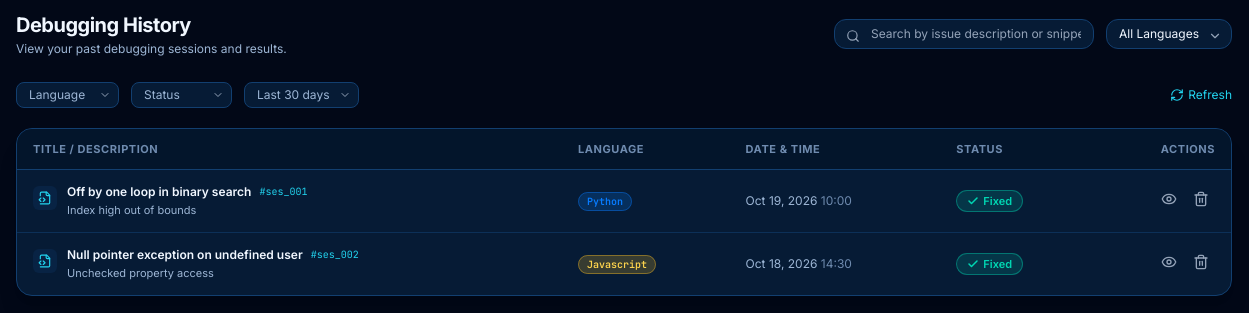
Test case: HistoryPage Component › filters sessions by search term
The image size is (1249, 313).
Expected: the text "Off by one loop in binary search" is shown, [67,184,251,200]
Type "null pointer" into the field with placeholder "Search by issue description or snippet..." at (964, 34), box [834,19,1094,49]
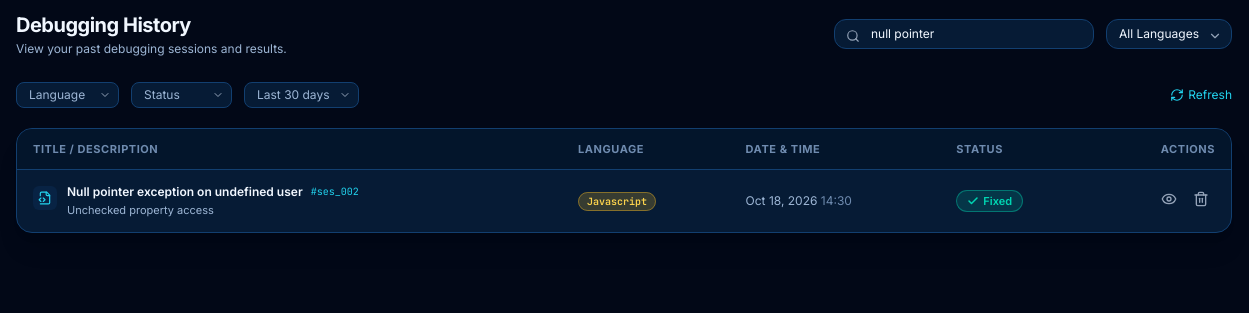
Expected: the text "Null pointer exception on undefined user" is shown, [67,184,303,200]
Expected: the text "Off by one loop in binary search" is gone
